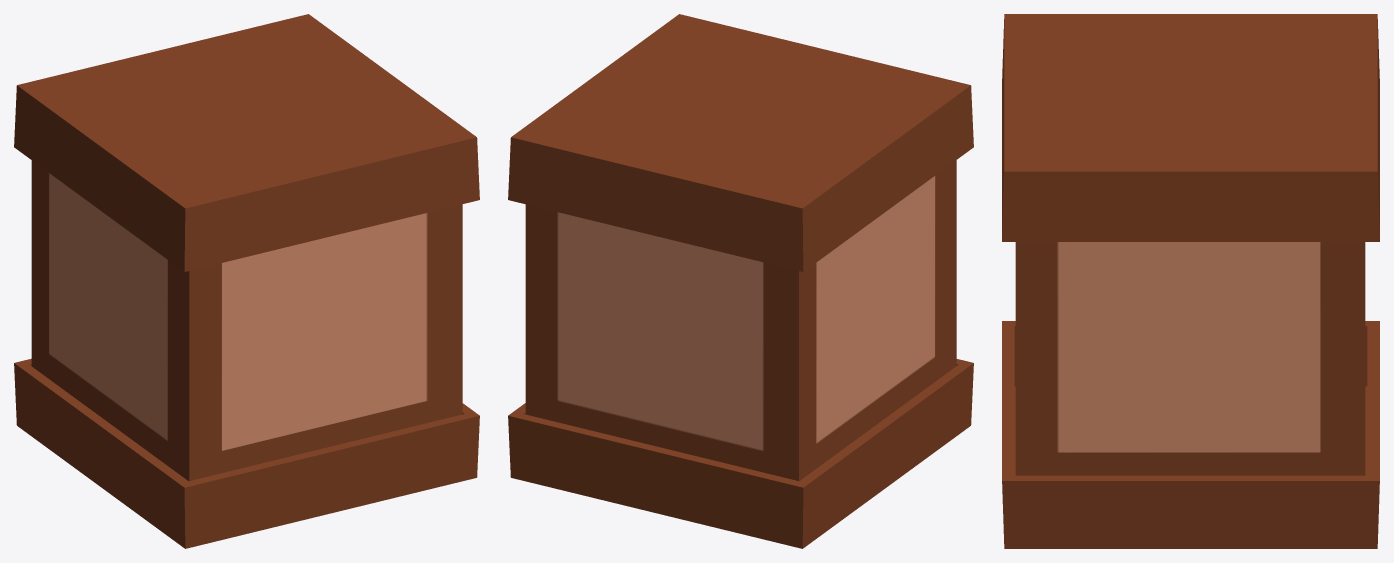
Rendered from Crate 2.fbx.
3 renders of one model, left to right at view 1: azimuth 30°, elevation 25°; view 2: azimuth 150°, elevation 25°; view 3: azimuth 270°, elevation 25°, orthographic. The views are drawn at different scales.
Visible parts, largest first — view 1: Box003; view 2: Box003; view 3: Box003.
Part boxes in pixels (x1,y1,x2,y2): Box003: (14,14,479,548); Box003: (508,14,973,548); Box003: (1002,14,1379,548).
Bounding box in the file's own units: 13.38 × 14.74 × 13.38.
1 material, 1 textured.
